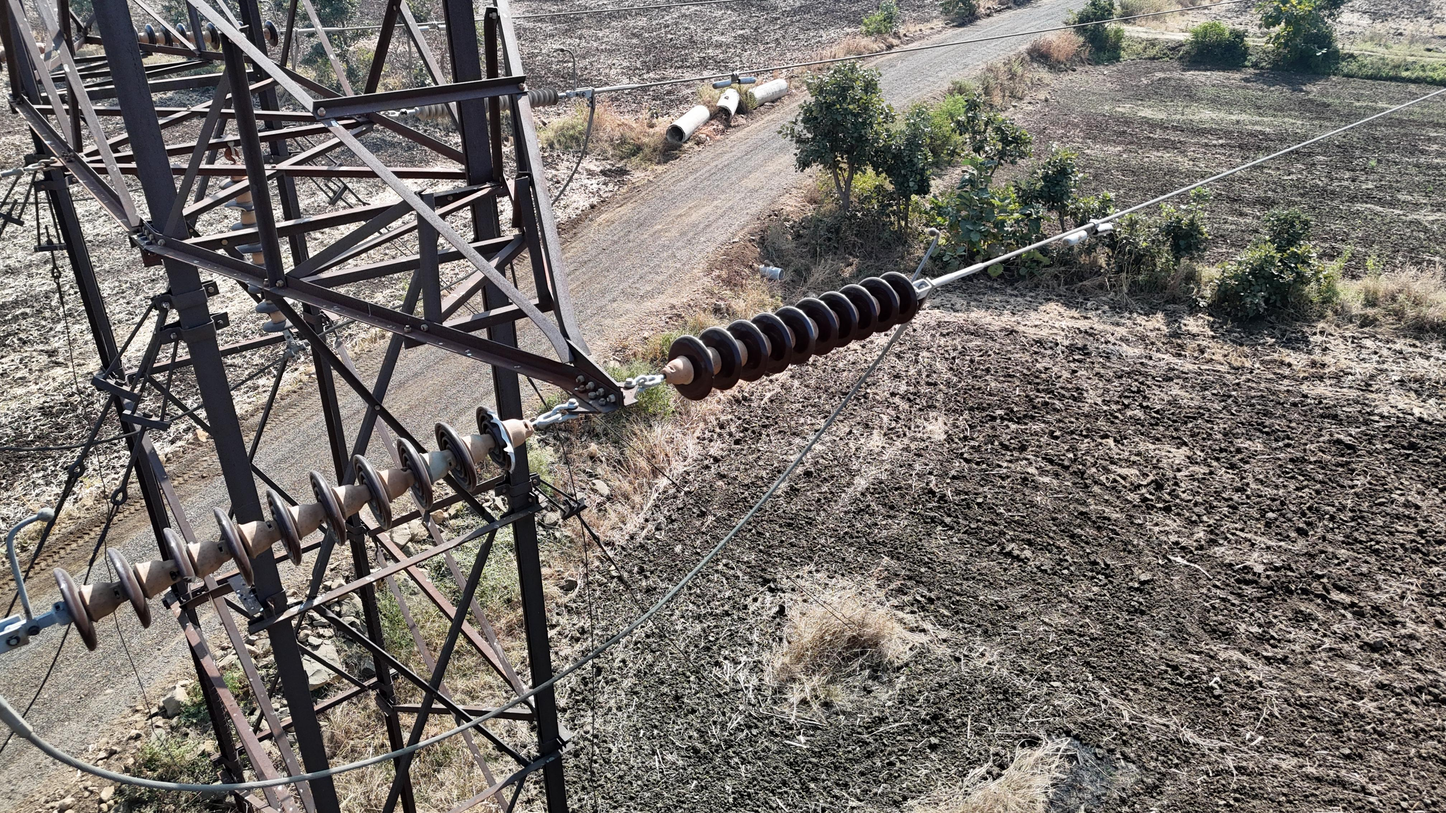broken_insulator: (163, 527, 207, 609), (475, 404, 518, 481)
